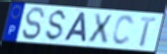A: (62, 11, 88, 44)
C: (111, 14, 135, 47)
S: (21, 6, 47, 41), (43, 9, 69, 43)
T: (139, 16, 158, 48)
X: (87, 13, 114, 44)
